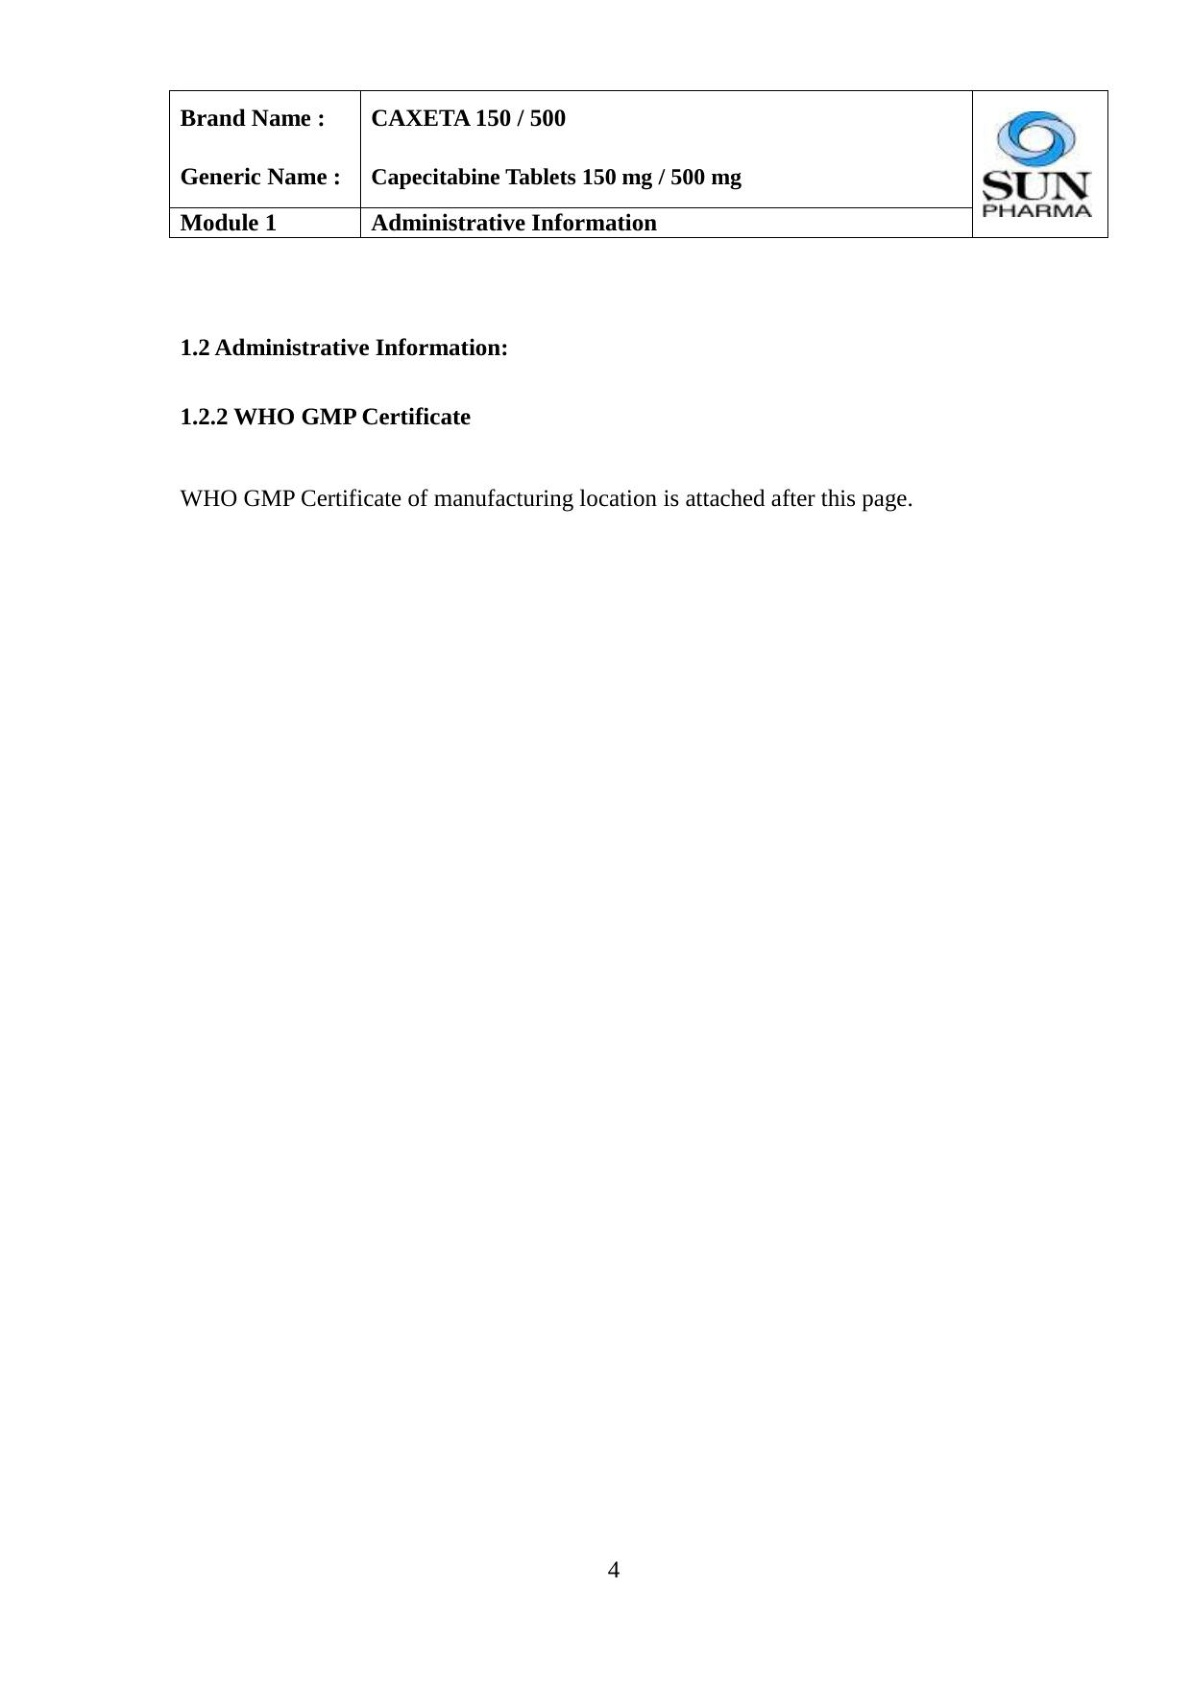merged_cells: (166, 86, 1109, 239)
